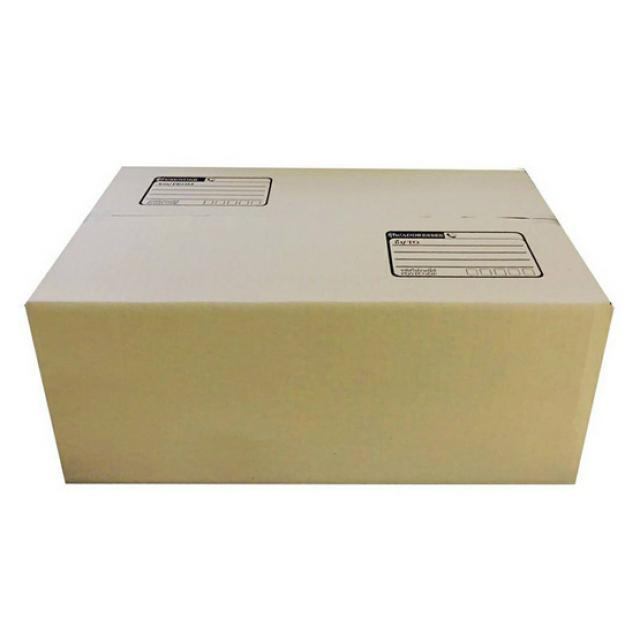box: (21, 149, 625, 504)
